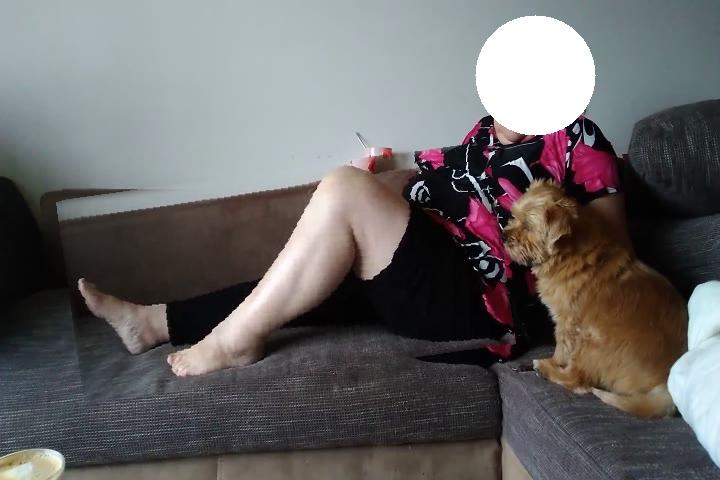lower_body: (63, 157, 511, 391)
